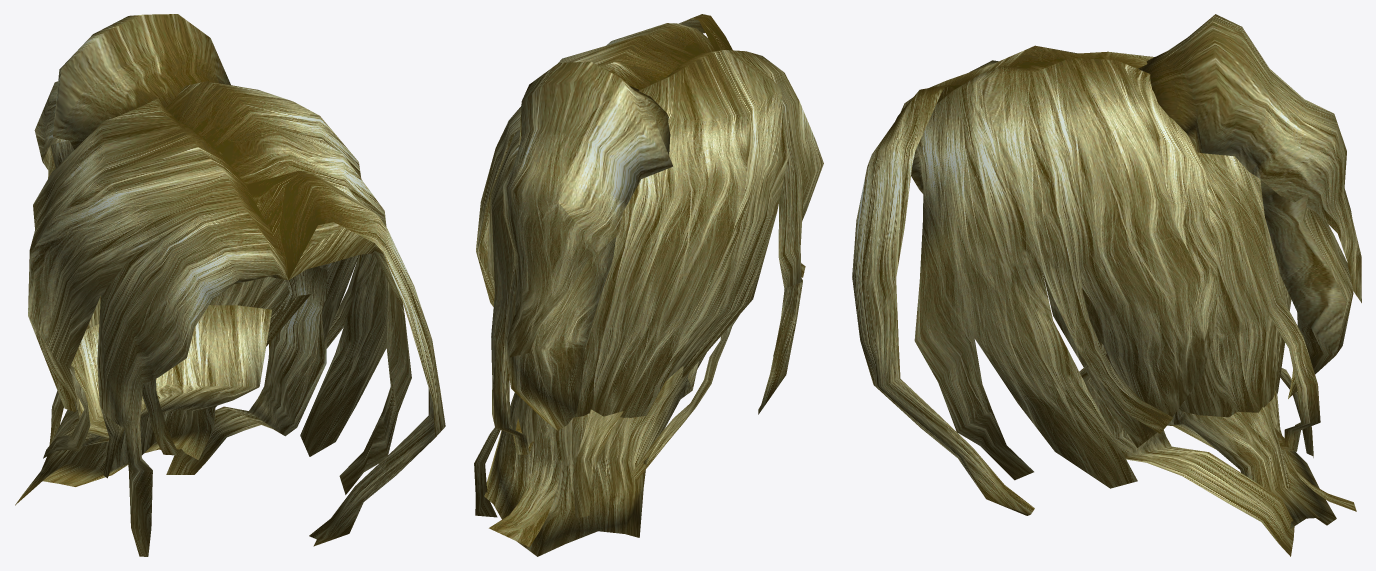
File: mh_faydaen_hair_1.glb
3 renders of one model, left to right at view 1: azimuth 30°, elevation 25°; view 2: azimuth 150°, elevation 25°; view 3: azimuth 270°, elevation 25°, orthographic. The views are drawn at different scales.
Visible parts, largest first — view 1: mh_faydaen_hair_1; view 2: mh_faydaen_hair_1; view 3: mh_faydaen_hair_1.
Boxes of the visible parts, x1,y1,x2,y2 form: mh_faydaen_hair_1: [15, 14, 445, 556]; mh_faydaen_hair_1: [474, 14, 823, 556]; mh_faydaen_hair_1: [852, 14, 1361, 556].
Bounding box in the file's own units: 0.1844 × 0.3112 × 0.2884.
Materials: 1 (1 with a texture image).
